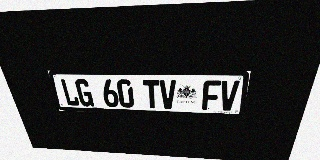0: (116, 79, 134, 108)
6: (100, 79, 119, 107)
F: (202, 80, 221, 110)
G: (74, 79, 94, 107)
L: (60, 79, 80, 106)
T: (143, 80, 160, 109)
V: (219, 80, 240, 111), (159, 80, 176, 109)
